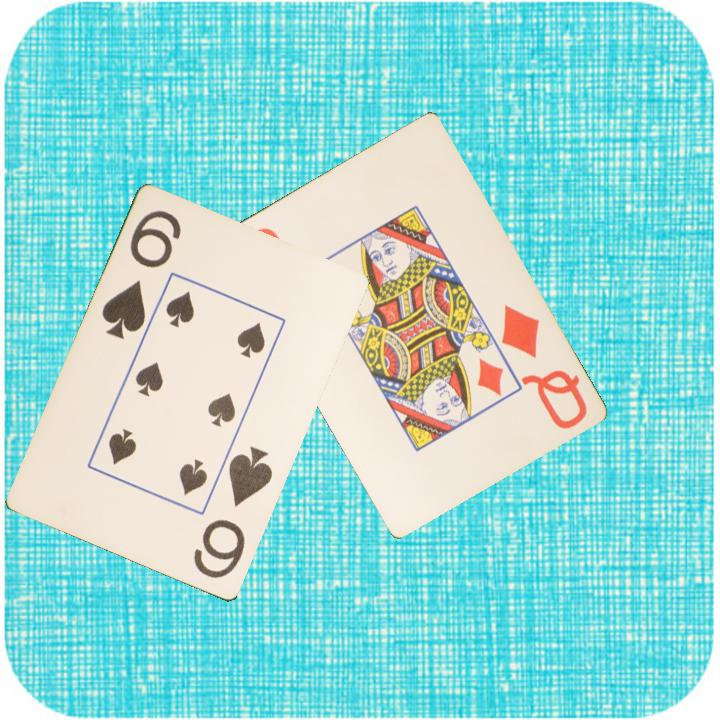6s: (190, 443, 276, 582), (98, 207, 185, 343)
Qd: (497, 300, 590, 433)
